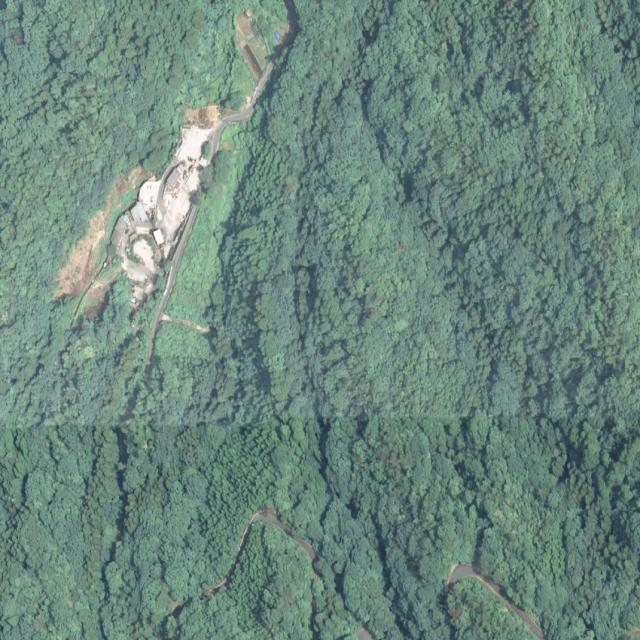landslide: (54, 166, 152, 327)
